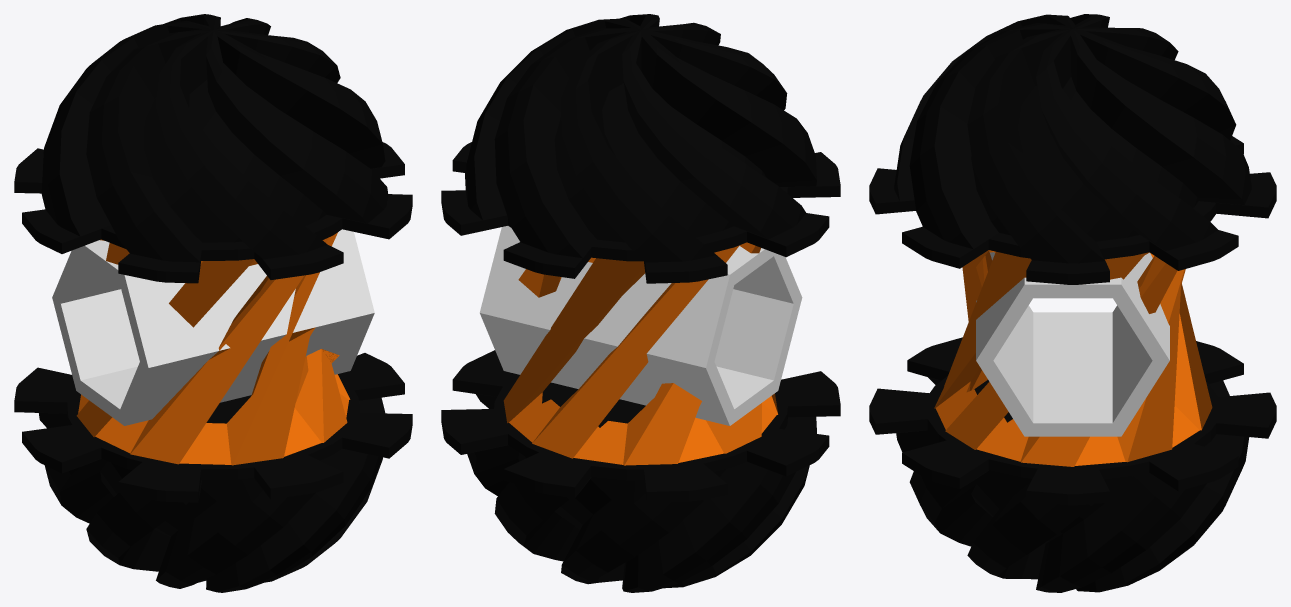
File: FloatingTorch.fbx
The picture shows the model from 3 angles, left to right: view 1: azimuth 30°, elevation 25°; view 2: azimuth 150°, elevation 25°; view 3: azimuth 270°, elevation 25°; orthographic projection.
Visible parts, largest first — view 1: Cube, Cylinder.002, Cylinder.001; view 2: Cube, Cylinder.002, Cylinder.001; view 3: Cube, Cylinder.002, Cylinder.001.
Part boxes in pixels (x1=…): Cube: x1=14, y1=14, x2=412, y2=592; Cylinder.002: x1=52, y1=229, x2=374, y2=425; Cylinder.001: x1=76, y1=232, x2=350, y2=465; Cube: x1=441, y1=14, x2=840, y2=592; Cylinder.002: x1=479, y1=226, x2=802, y2=425; Cylinder.001: x1=503, y1=242, x2=778, y2=465; Cube: x1=869, y1=14, x2=1276, y2=592; Cylinder.002: x1=976, y1=251, x2=1169, y2=436; Cylinder.001: x1=934, y1=250, x2=1212, y2=466.
Size of the model in its own units: 227 by 337 by 227.
